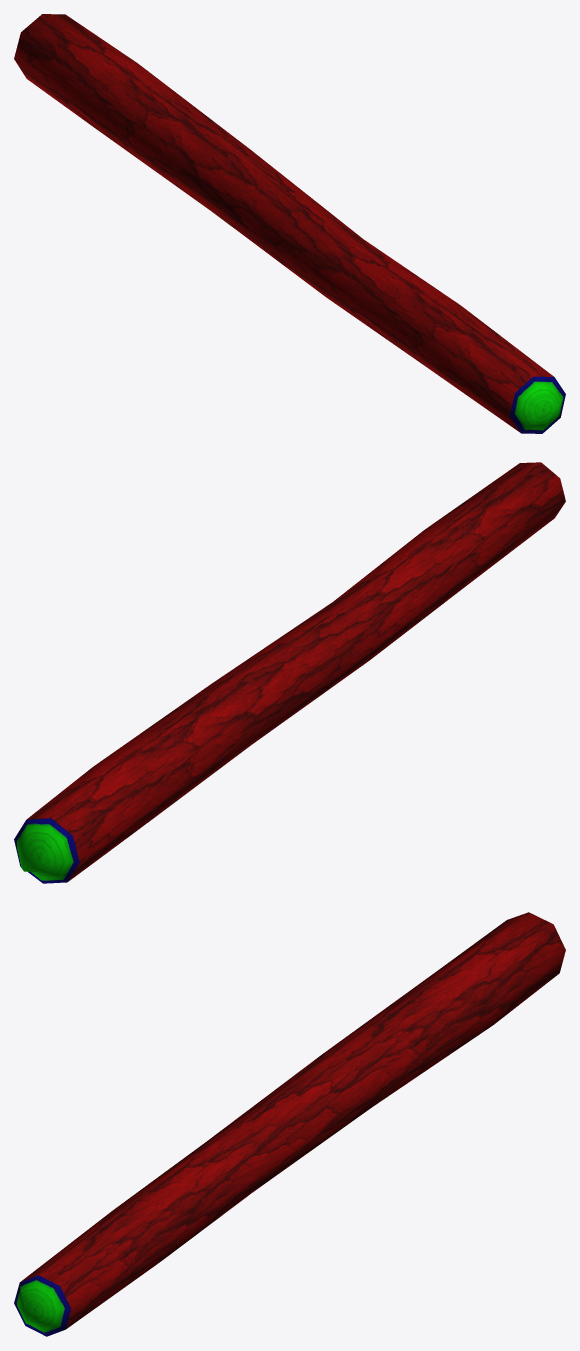
The model's file is Log03.fbx.
3 renders of one model, top to bottom at view 1: azimuth 30°, elevation 25°; view 2: azimuth 150°, elevation 25°; view 3: azimuth 330°, elevation 25°, orthographic.
Visible parts, largest first — view 1: Log03_LOD0; view 2: Log03_LOD0; view 3: Log03_LOD0.
Boxes of the visible parts, x1,y1,x2,y2 form: Log03_LOD0: (14,14,565,433); Log03_LOD0: (14,462,565,883); Log03_LOD0: (14,912,565,1336).
Size of what is drawn, in the model's own units: 0.1952 by 0.1921 by 2.52.
